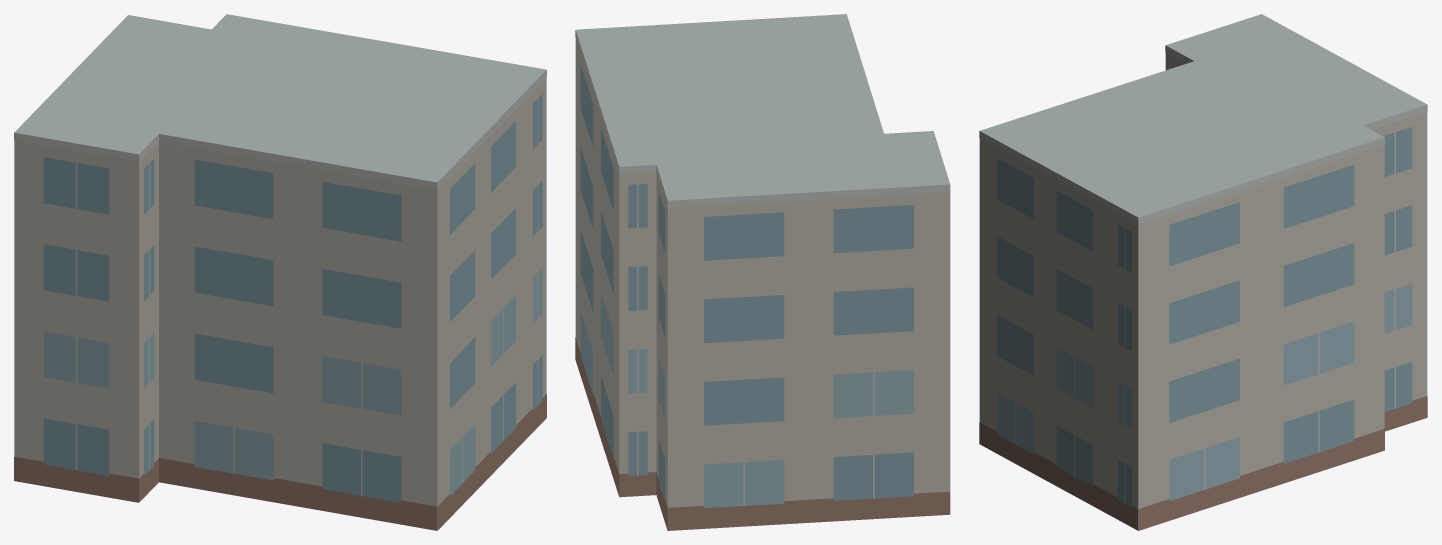
File: survey-upis-32728459.glb
3 renders of one model, left to right at view 1: azimuth 30°, elevation 25°; view 2: azimuth 150°, elevation 25°; view 3: azimuth 270°, elevation 25°, orthographic. The views are drawn at different scales.
Visible parts, largest first — view 1: survey-upis-32728459.tmp; view 2: survey-upis-32728459.tmp; view 3: survey-upis-32728459.tmp.
Boxes of the visible parts, box(x1,y1,x2,y2) form: survey-upis-32728459.tmp: box(14, 14, 546, 530); survey-upis-32728459.tmp: box(575, 14, 950, 530); survey-upis-32728459.tmp: box(979, 14, 1427, 530).
Size of the model in its own units: 15.06 by 10.8 by 14.01.
